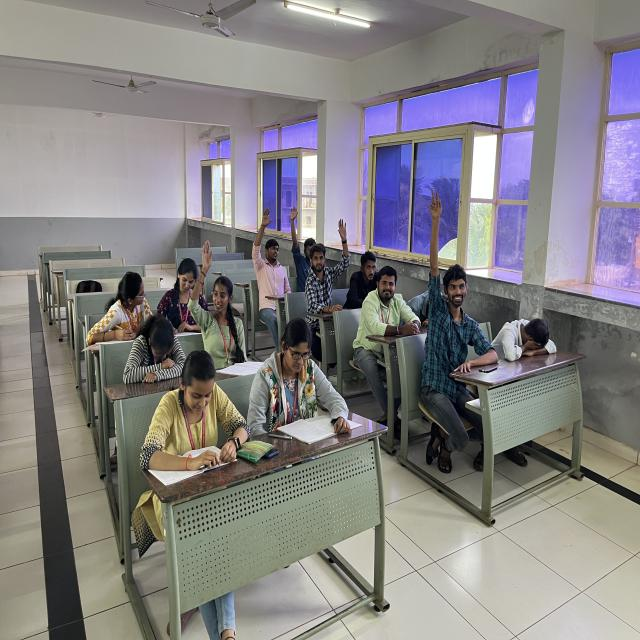Hand Rising: (421, 188, 482, 410), (193, 228, 248, 355), (302, 209, 352, 306), (253, 202, 292, 318), (287, 205, 321, 279)
Reading: (243, 316, 364, 438), (149, 340, 241, 484)
Sleeping: (490, 279, 560, 367), (120, 302, 186, 393)
Writing: (165, 246, 213, 344), (96, 260, 151, 345)
